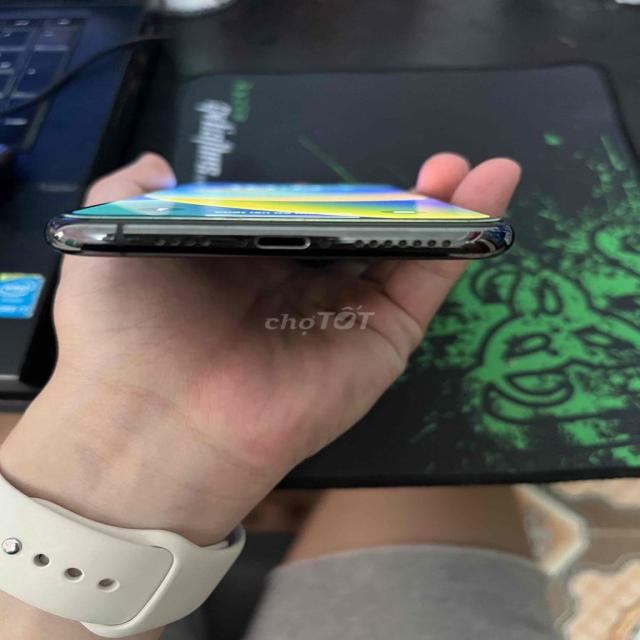gen_11: (46, 183, 513, 260)
